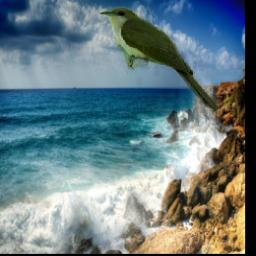Cuckoo: (99, 7, 219, 113)
